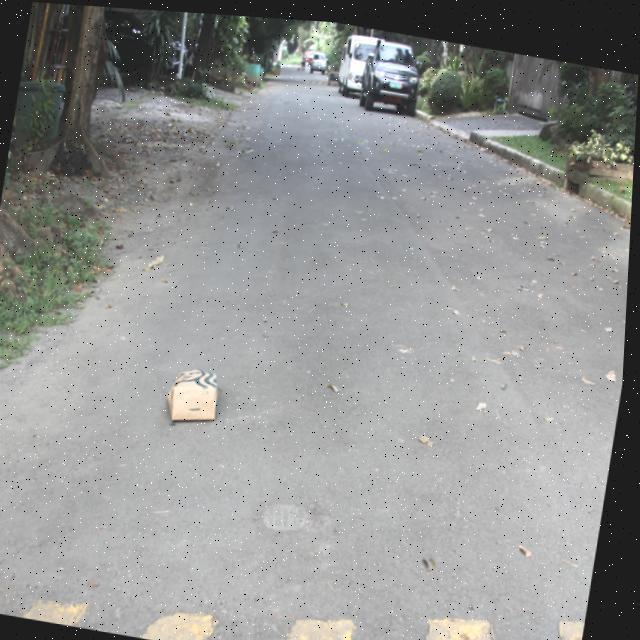Paper_Bag: (168, 361, 225, 424)
